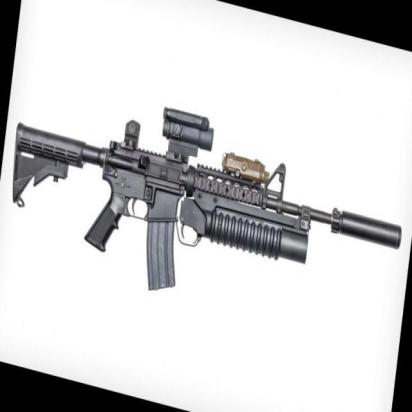Gun: (0, 98, 411, 293)
